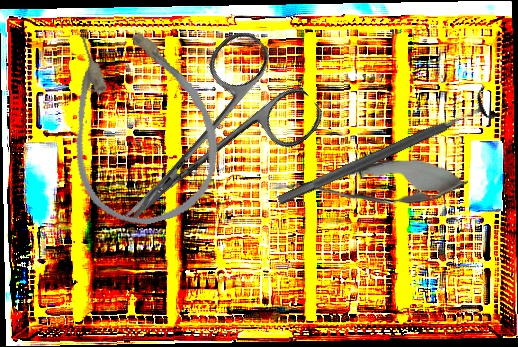Cannula: (44, 6, 235, 239)
Fixation Ring: (271, 85, 498, 218)
Iris Scissors: (82, 23, 330, 263)
Micro Scissor: (270, 155, 469, 212)
